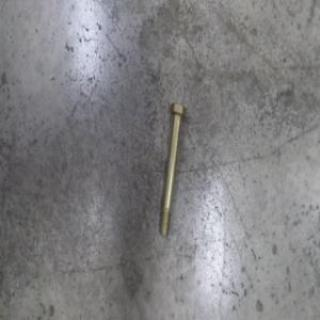Bolttrack_idkeyframe: (158, 100, 186, 238)
